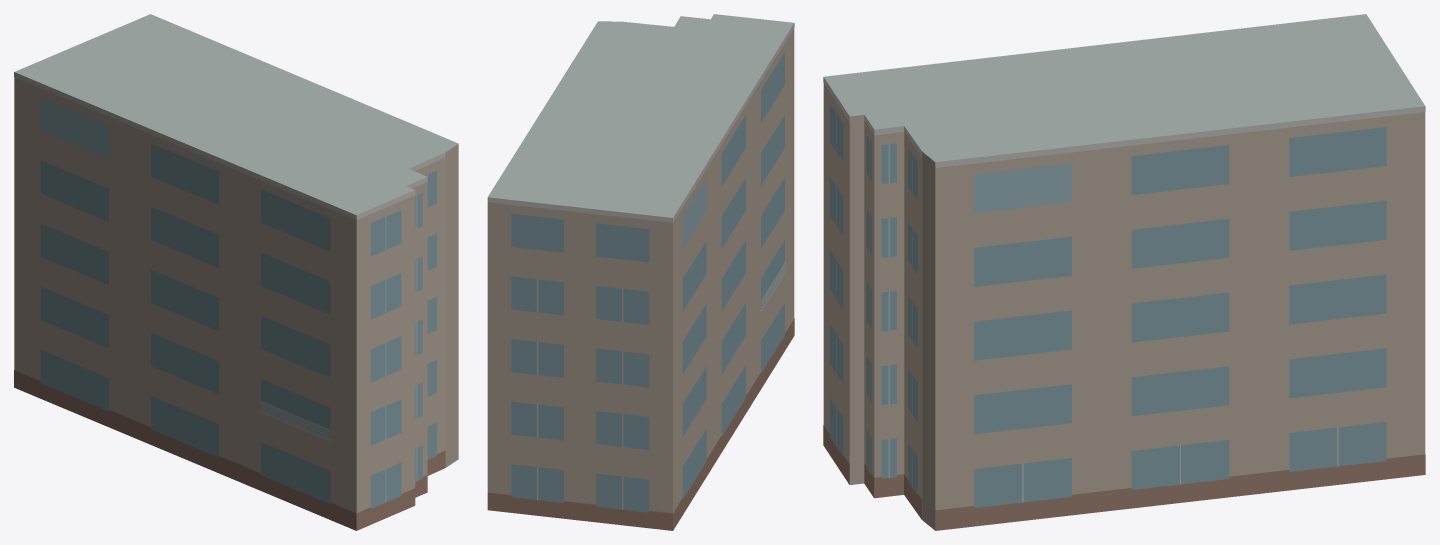
The model's file is survey-upis-32812433.glb.
3 views of the same model, side by side, from view 1: azimuth 30°, elevation 25°; view 2: azimuth 150°, elevation 25°; view 3: azimuth 270°, elevation 25° (orthographic). The views are drawn at different scales.
Parts seen in each view (by area): view 1: survey-upis-32812433.tmp; view 2: survey-upis-32812433.tmp; view 3: survey-upis-32812433.tmp.
Part boxes in pixels (<box>): survey-upis-32812433.tmp: <box>14,14,458,530</box>; survey-upis-32812433.tmp: <box>487,14,794,530</box>; survey-upis-32812433.tmp: <box>823,14,1425,530</box>.
Size of the model in its own units: 13.46 by 15.6 by 23.1.
